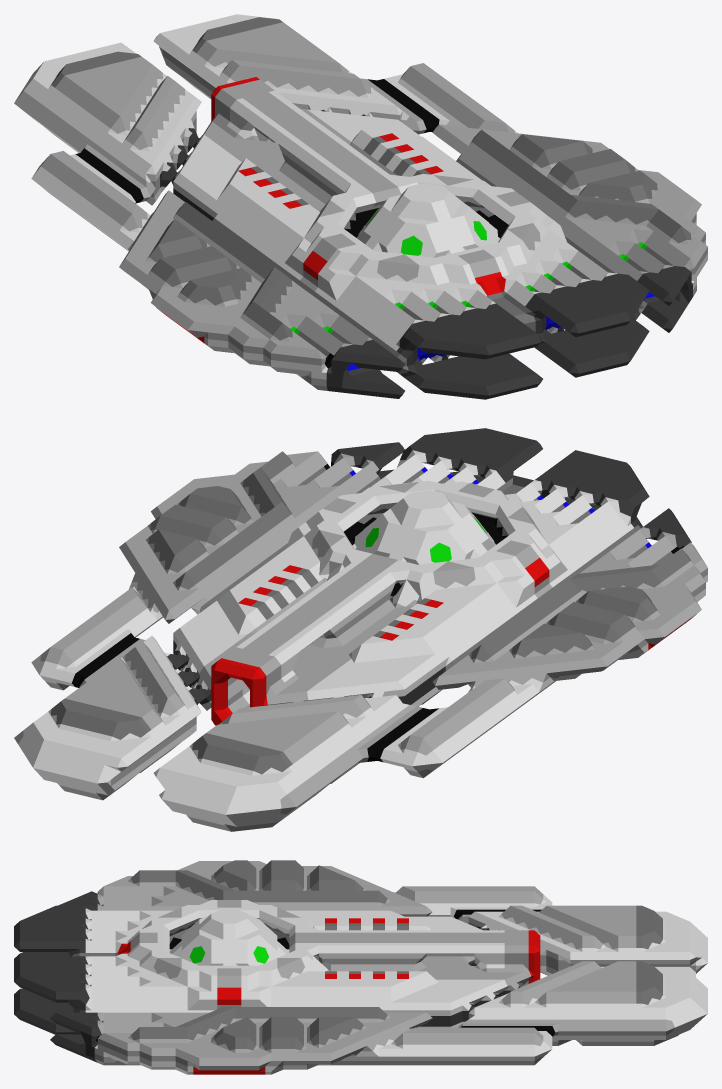
File: ship_gavinc_destroyer_light.fbx
3 views of the same model, one above another, from view 1: azimuth 30°, elevation 25°; view 2: azimuth 150°, elevation 25°; view 3: azimuth 270°, elevation 25° (orthographic). The views are drawn at different scales.
Visible parts, largest first — view 1: ship_gavinc_destroyer_light.mc; view 2: ship_gavinc_destroyer_light.mc; view 3: ship_gavinc_destroyer_light.mc.
Boxes of the visible parts, x1,y1,x2,y2 form: ship_gavinc_destroyer_light.mc: (14,14,707,399); ship_gavinc_destroyer_light.mc: (14,428,707,831); ship_gavinc_destroyer_light.mc: (14,860,707,1074).
Size of the model in its own units: 4000 by 1000 by 5800.
